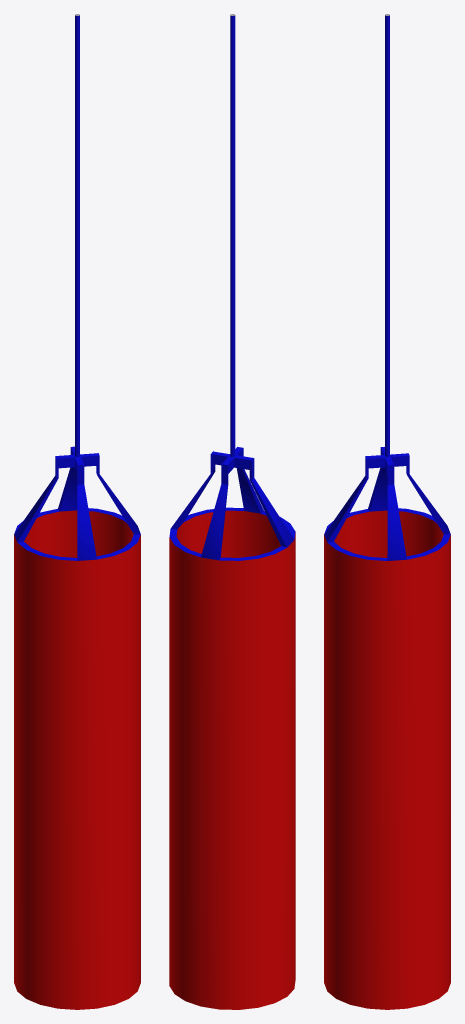
File: HangLight.fbx
The picture shows the model from 3 angles, left to right: view 1: azimuth 90°, elevation 25°; view 2: azimuth 150°, elevation 25°; view 3: azimuth 270°, elevation 25°; orthographic projection.
Visible parts, largest first — view 1: pCylinder5; view 2: pCylinder5; view 3: pCylinder5.
Part boxes in pixels (bbox=[...]): pCylinder5: bbox=[14, 14, 140, 1009]; pCylinder5: bbox=[169, 14, 295, 1009]; pCylinder5: bbox=[324, 14, 450, 1009].
Bounding box in the file's own units: 58.26 × 491 × 58.26.
